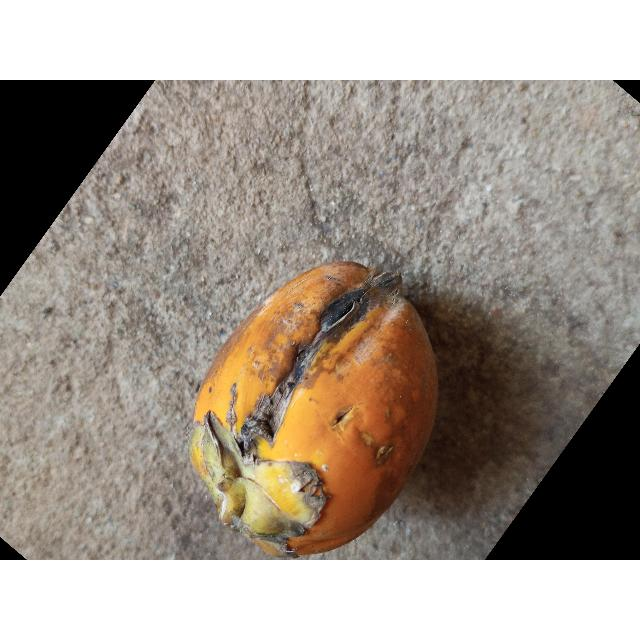damaged: (190, 262, 438, 557)
